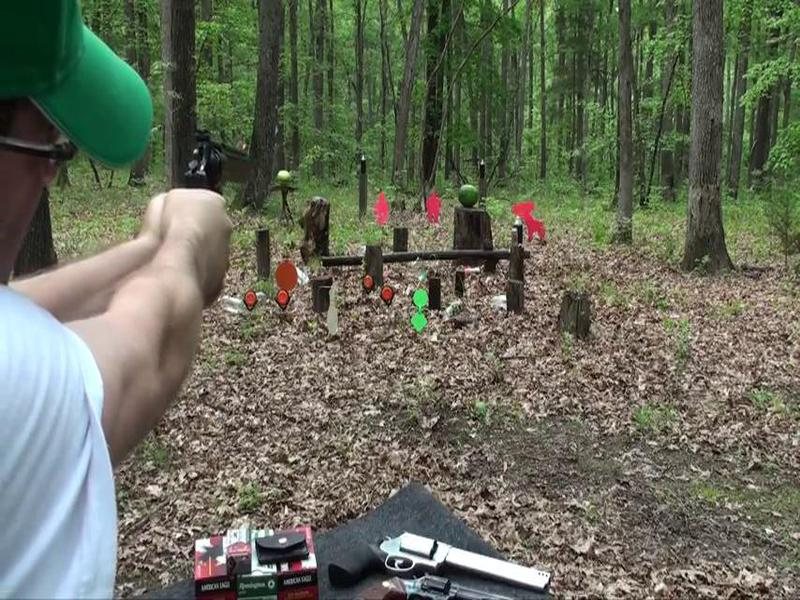Revolver: (169, 124, 276, 226)
